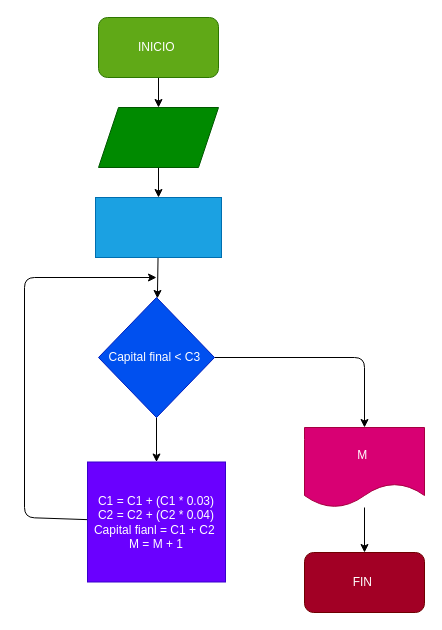
Some shapes in this 442 by 630 pixel diagram are drawn without their labels. The centre of each missing label's shape, as x and y in pixels:
C1, C2, C3: (x=158, y=137)
Capital final = C1 + C2 M = 0: (x=158, y=227)
